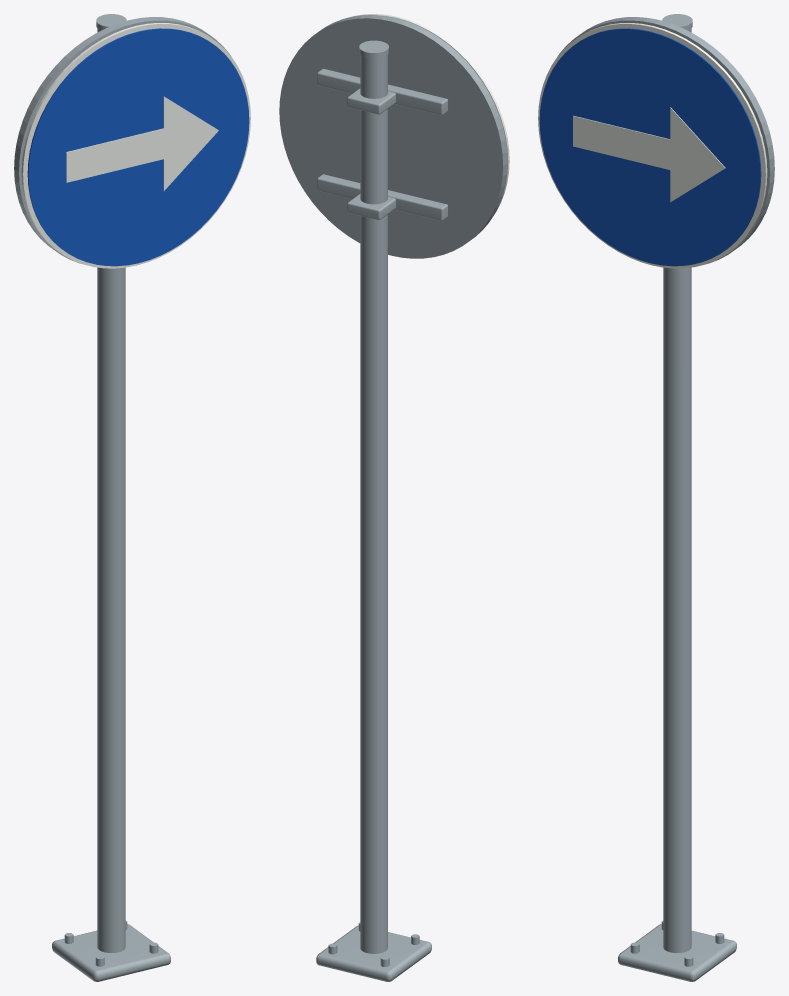
The model's file is DS_Sign_Right.glb.
3 views of the same model, side by side, from view 1: azimuth 30°, elevation 25°; view 2: azimuth 150°, elevation 25°; view 3: azimuth 330°, elevation 25° (orthographic). The views are drawn at different scales.
Visible parts, largest first — view 1: Face_Field.010, Post.010, DirectionArrow.001, BasePlate.010, Face_Border.010, Plate_Back.010; view 2: Plate_Back.010, Post.010, BasePlate.010, RearRail.021, RearRail.020, PostClamp.021, PostClamp.020, Face_Border.010; view 3: Face_Field.010, Post.010, DirectionArrow.001, BasePlate.010, Face_Border.010, Plate_Back.010.
Part boxes in pixels (bbox=[...]): Face_Field.010: bbox=[27, 28, 249, 266]; Post.010: bbox=[97, 28, 125, 952]; DirectionArrow.001: bbox=[66, 96, 218, 190]; BasePlate.010: bbox=[52, 924, 170, 981]; Face_Border.010: bbox=[21, 23, 250, 268]; Plate_Back.010: bbox=[14, 17, 230, 263]; Plate_Back.010: bbox=[279, 15, 507, 258]; Post.010: bbox=[360, 55, 387, 953]; BasePlate.010: bbox=[316, 925, 431, 981]; RearRail.021: bbox=[317, 68, 448, 115]; RearRail.020: bbox=[317, 174, 448, 220]; PostClamp.021: bbox=[347, 88, 395, 114]; PostClamp.020: bbox=[347, 194, 395, 219]; Face_Border.010: bbox=[354, 14, 509, 212]; Face_Field.010: bbox=[539, 28, 761, 266]; Post.010: bbox=[663, 28, 691, 952]; DirectionArrow.001: bbox=[573, 107, 725, 202]; BasePlate.010: bbox=[618, 924, 736, 981]; Face_Border.010: bbox=[538, 23, 767, 268]; Plate_Back.010: bbox=[558, 17, 774, 263].
Size of the model in its own units: 0.71 by 2.81 by 0.279.
